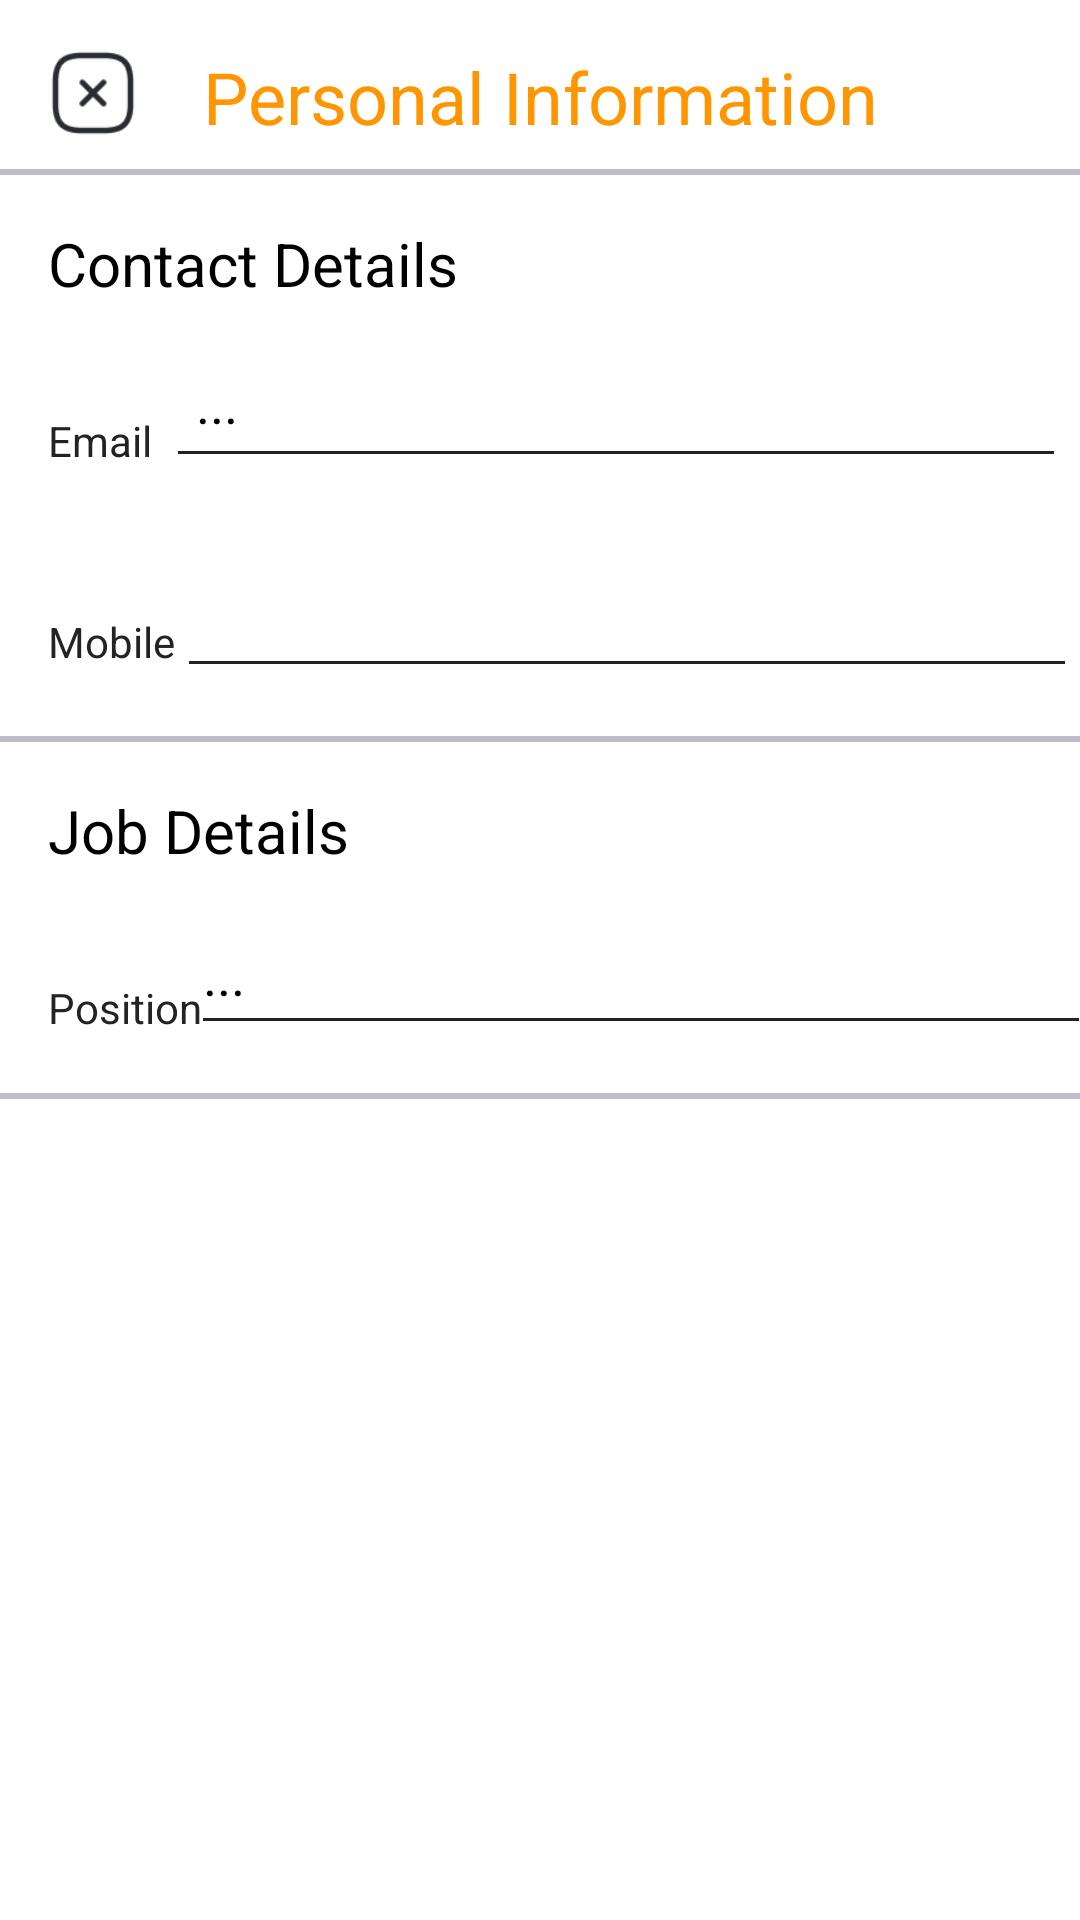

Where to tap for icons on this 1080×1920 app screen, as [x,y]:
close: [93,93]
